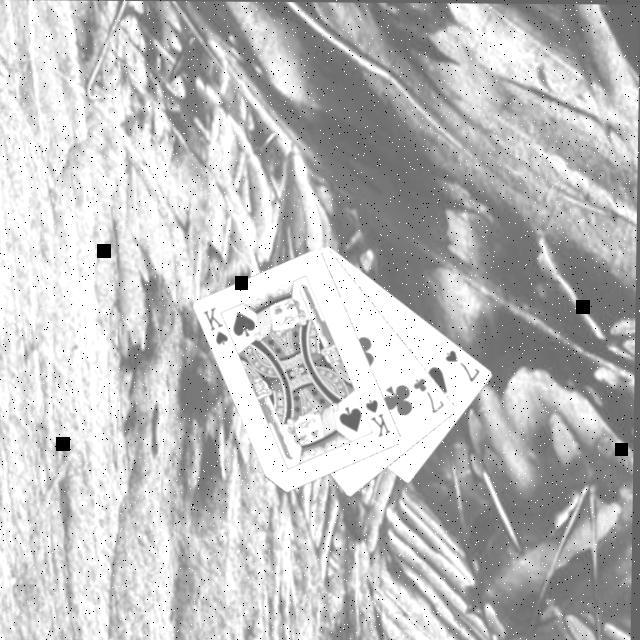7C: (413, 375, 451, 417)
7S: (444, 346, 486, 386)
KS: (202, 306, 241, 350), (364, 396, 398, 441)
